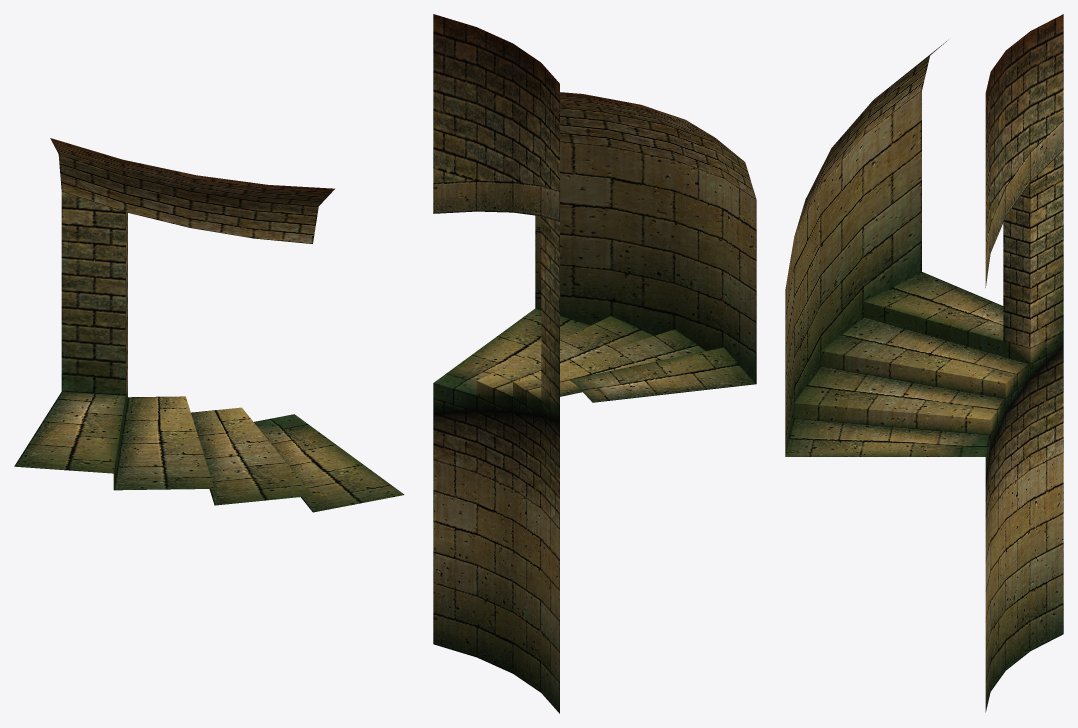
File: Mission12_Catacomb01_D.glb
3 renders of one model, left to right at view 1: azimuth 30°, elevation 25°; view 2: azimuth 150°, elevation 25°; view 3: azimuth 270°, elevation 25°, orthographic. The views are drawn at different scales.
Parts seen in each view (by area): view 1: MISSION12_CATACOMB01_D; view 2: MISSION12_CATACOMB01_D; view 3: MISSION12_CATACOMB01_D.
Boxes of the visible parts, x1,y1,x2,y2 form: MISSION12_CATACOMB01_D: [14, 138, 404, 512]; MISSION12_CATACOMB01_D: [433, 14, 756, 713]; MISSION12_CATACOMB01_D: [785, 14, 1063, 712].
Size of the model in its own units: 4.95 by 10.25 by 4.17.
2 materials, 2 textured.
